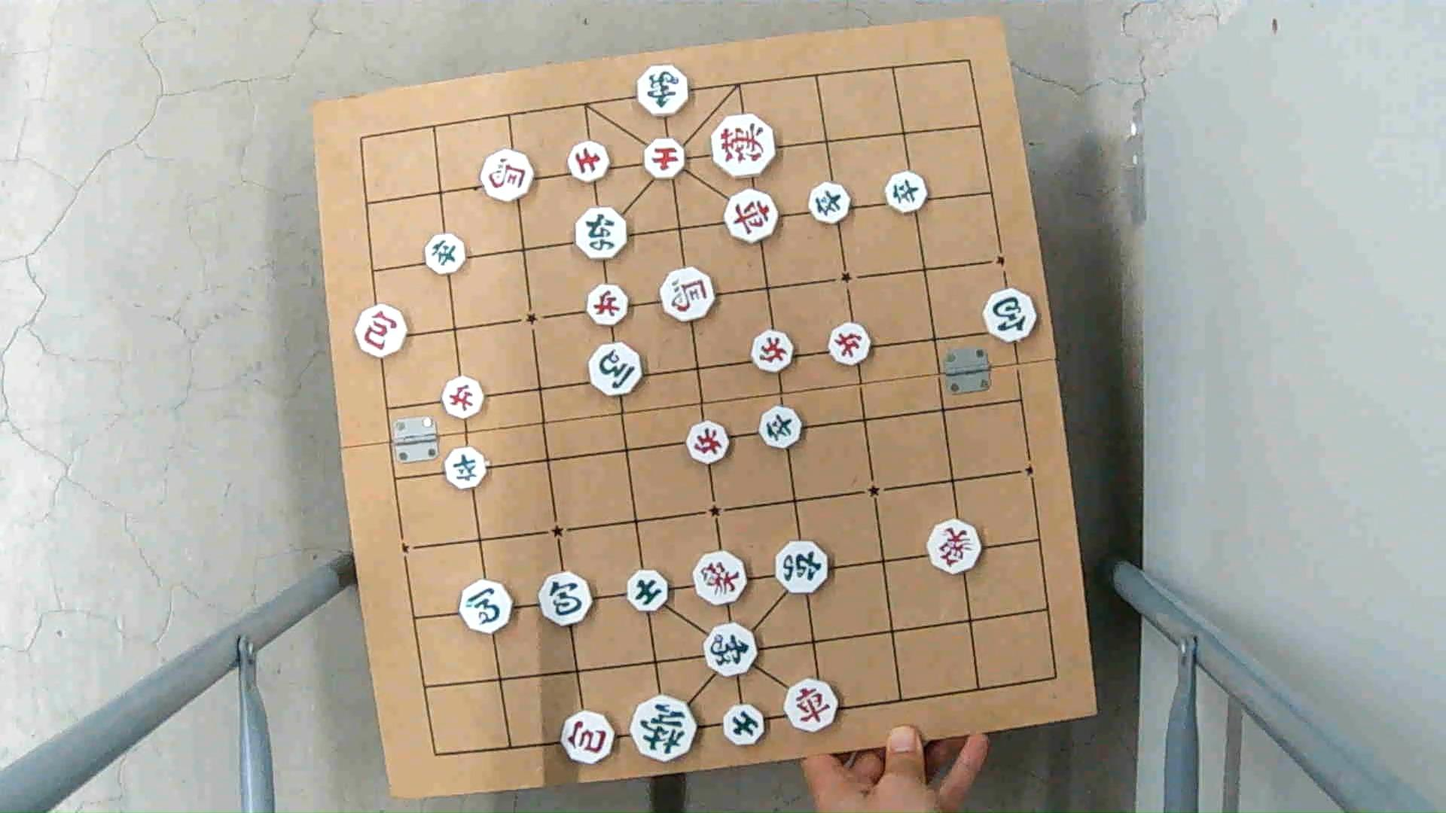cha_green: (774, 542, 831, 591), (575, 209, 630, 259)
cha_red: (724, 189, 779, 243), (782, 681, 839, 731)
jol_green: (759, 406, 804, 449), (444, 449, 490, 487), (883, 174, 928, 212), (806, 186, 850, 224), (423, 235, 467, 273)
jol_red: (825, 319, 869, 367), (683, 423, 730, 462), (750, 330, 795, 370), (440, 378, 487, 416), (587, 287, 631, 326)
ma_green: (588, 343, 642, 397), (459, 581, 514, 634)
ma_red: (656, 268, 713, 324), (478, 151, 535, 199)
po_green: (981, 291, 1038, 342), (537, 574, 591, 624)
po_red: (557, 713, 615, 763), (357, 309, 411, 358)
sa_green: (626, 568, 670, 614), (721, 707, 767, 746)
sa_red: (641, 139, 686, 177), (569, 140, 608, 183)
sang_green: (634, 65, 692, 117), (703, 627, 760, 676)
sang_red: (694, 554, 751, 604), (928, 522, 984, 571)
wang_green: (627, 702, 697, 760)
wang_red: (710, 116, 776, 172)
